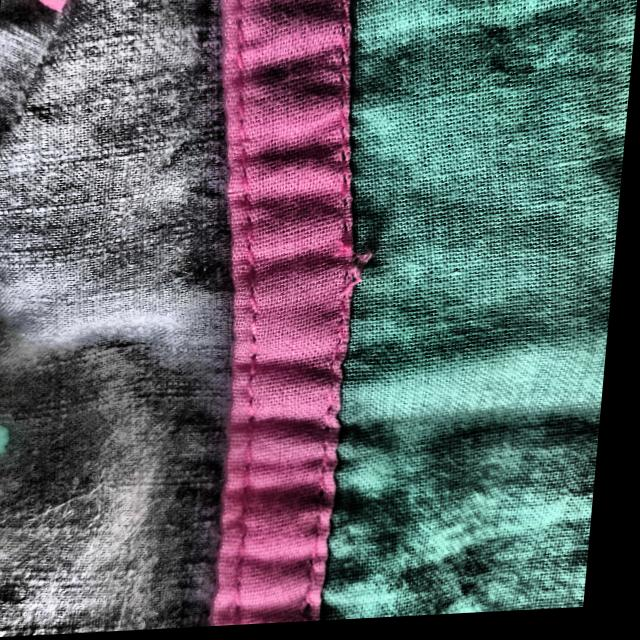Stitch: (322, 221, 389, 330)
